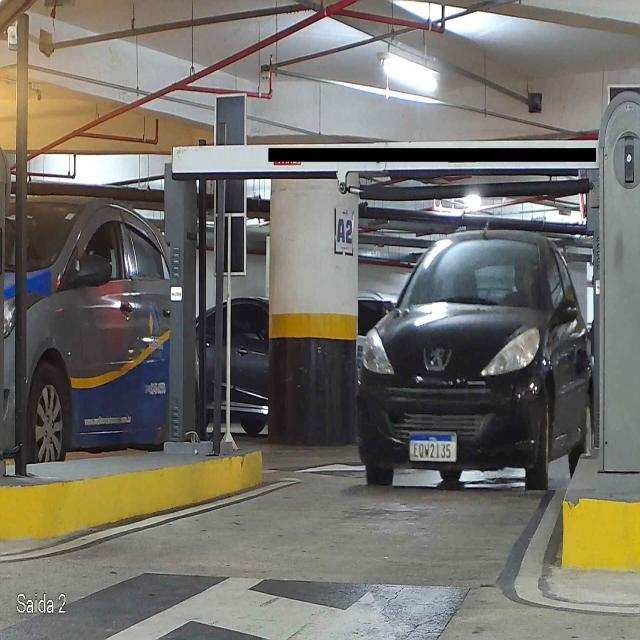mercosul_plate: (408, 431, 458, 463)
